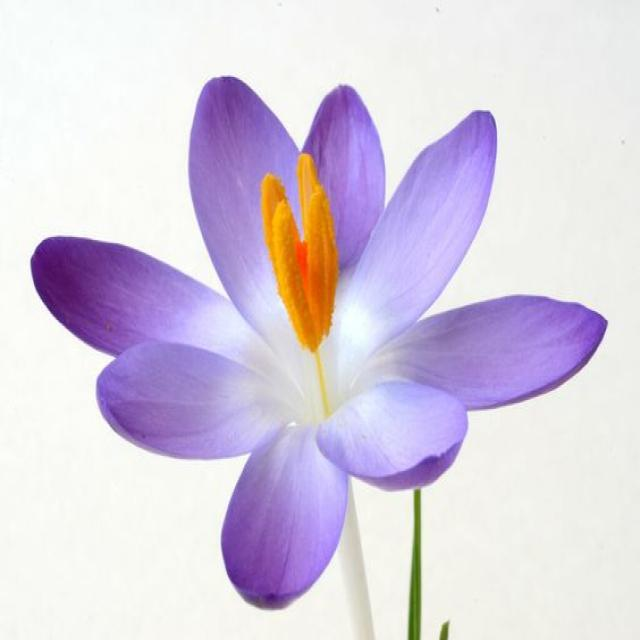Flower: (34, 76, 606, 607)
